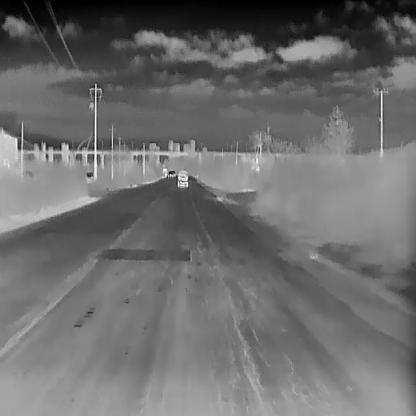car: (176, 169, 188, 187), (84, 171, 93, 181), (167, 170, 174, 176)
